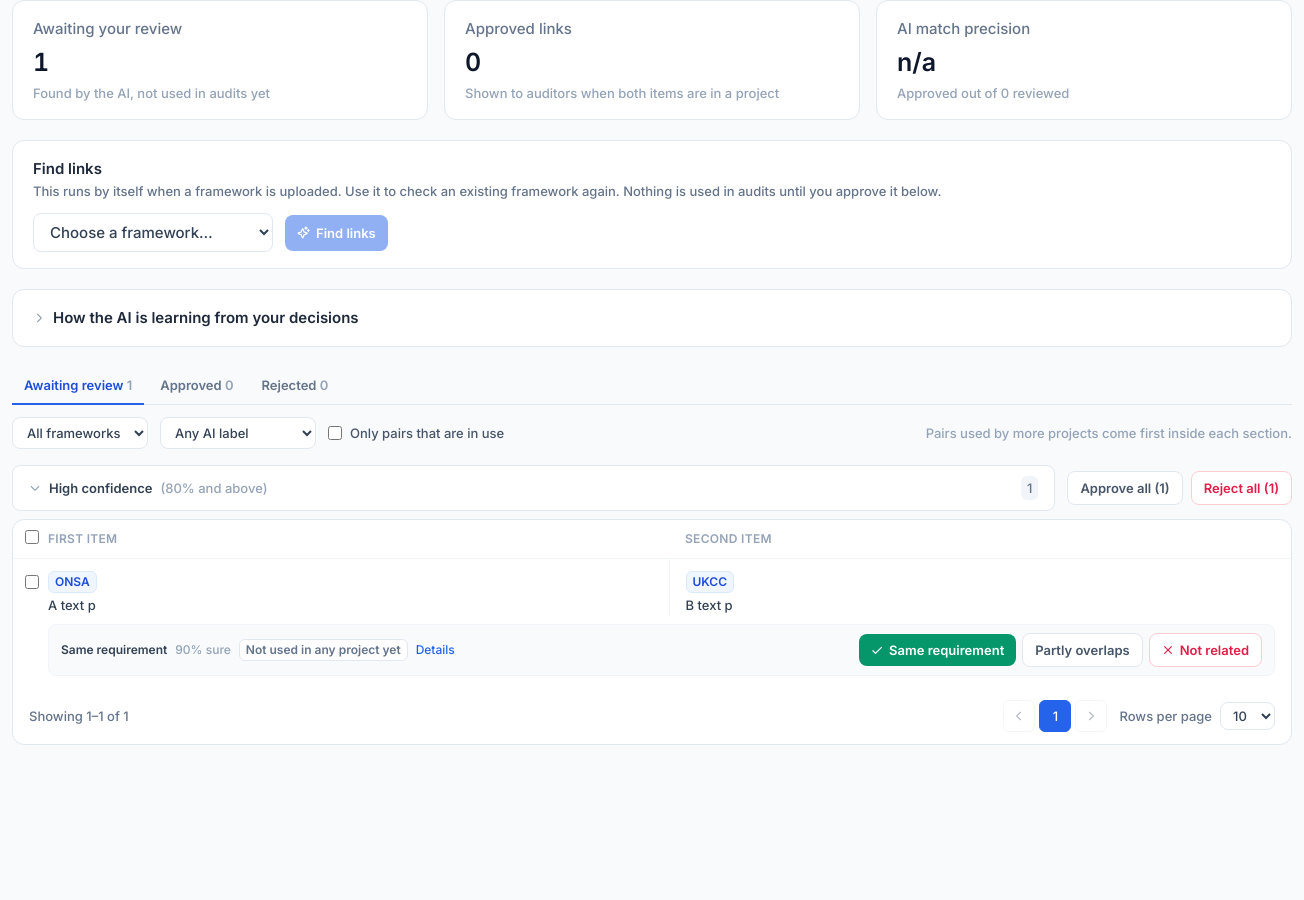
Scenario: LinkedItemsPanel tabs and filters › keeps the reason and the clause texts behind a Details button on each pair
Expected: the text "A text p" is shown, [48,597,96,613]
Expected: the text "Both require privacy by default" is not shown
Click the button "Details": (435, 650) [416,642,455,658]
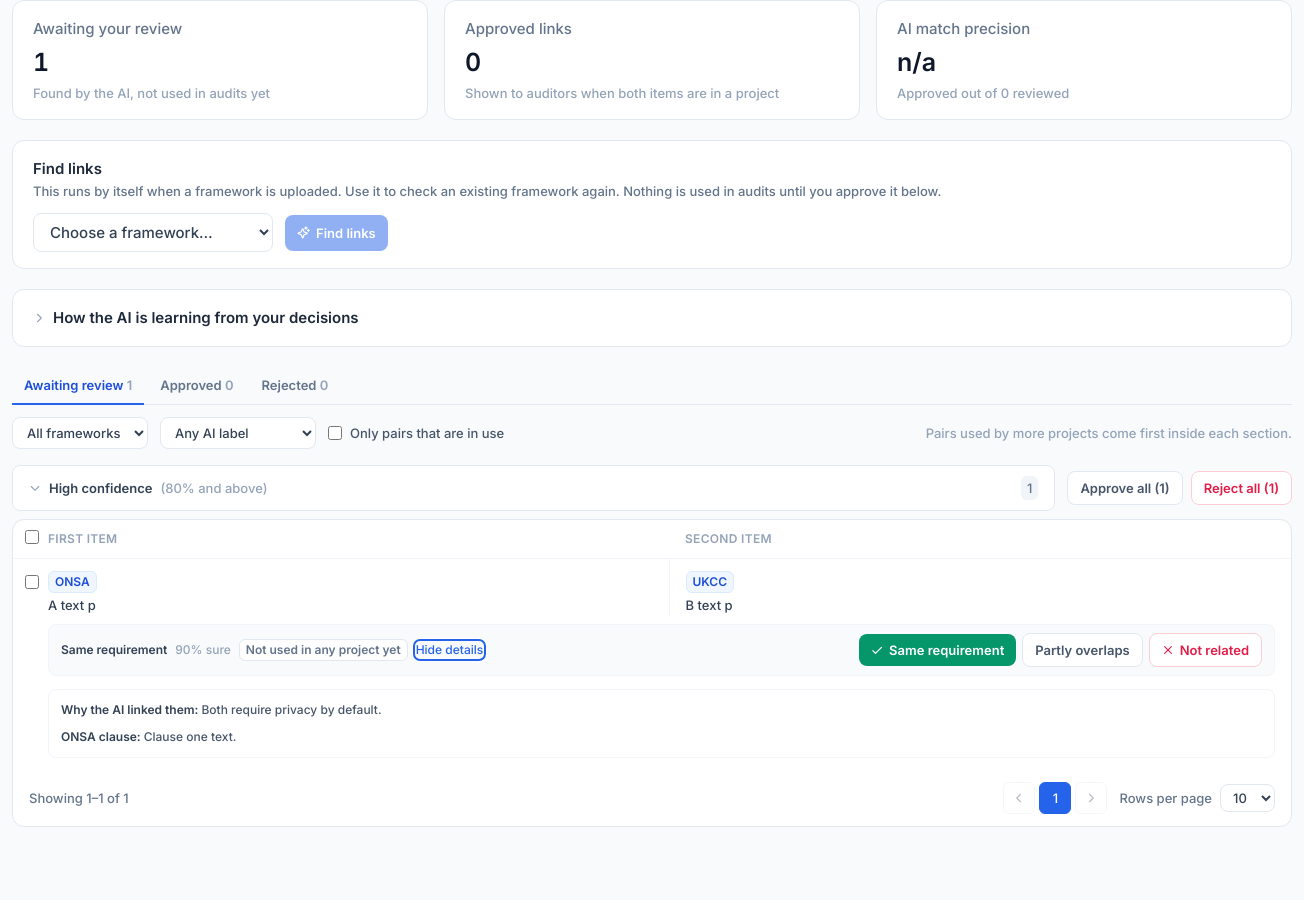
Expected: the text "Why the AI linked them: Both require privacy by default." is shown, [61,702,382,717]
Expected: the text "ONSA clause: Clause one text." is shown, [61,729,236,744]
Click the button "Hide details": (450, 650) [416,642,483,658]
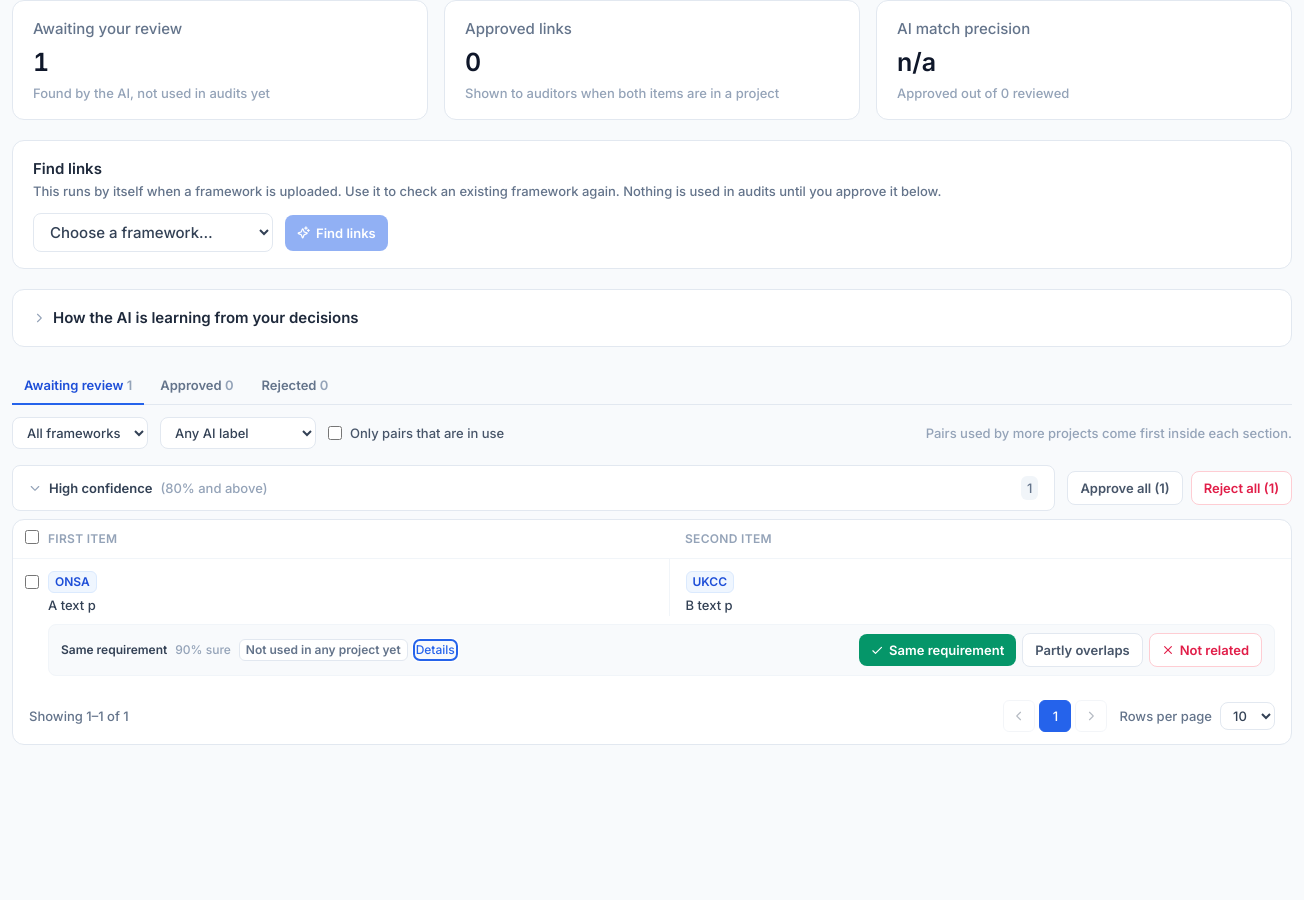
Expected: the text "Clause one text" is gone
